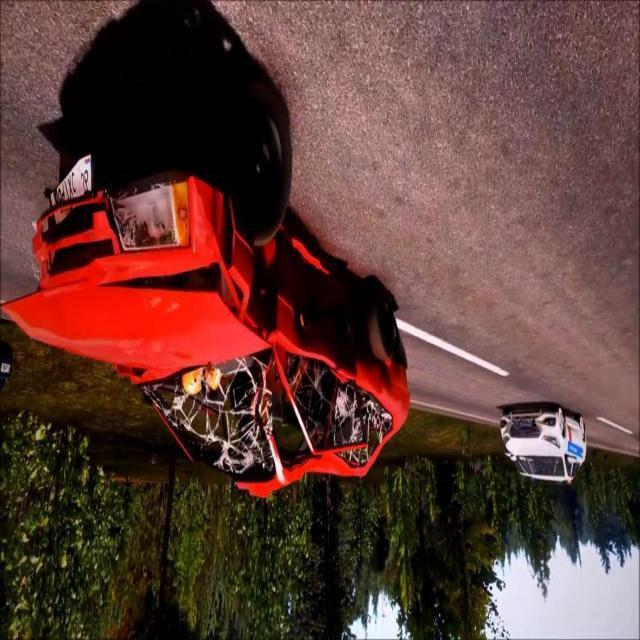severe: (0, 70, 414, 508)
